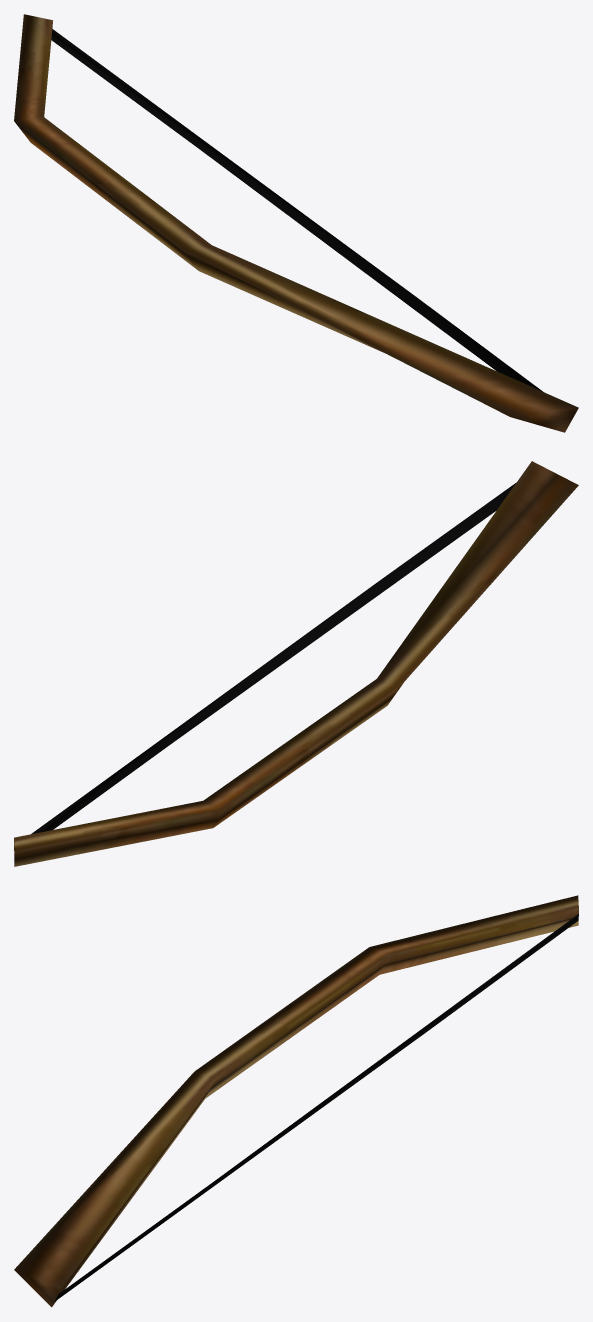
The model's file is ITMI_IE_CELLOBOW.glb.
The picture shows the model from 3 angles, top to bottom: view 1: azimuth 30°, elevation 25°; view 2: azimuth 150°, elevation 25°; view 3: azimuth 330°, elevation 25°; orthographic projection.
Parts seen in each view (by area): view 1: Mesh; view 2: Mesh; view 3: Mesh.
Part boxes in pixels (x1,y1,x2,y2): Mesh: (14,14,578,432); Mesh: (14,461,578,866); Mesh: (14,895,578,1307).
Bounding box in the file's own units: 0.1104 × 0.0239 × 0.7898.
Materials: 2 (2 with a texture image).
